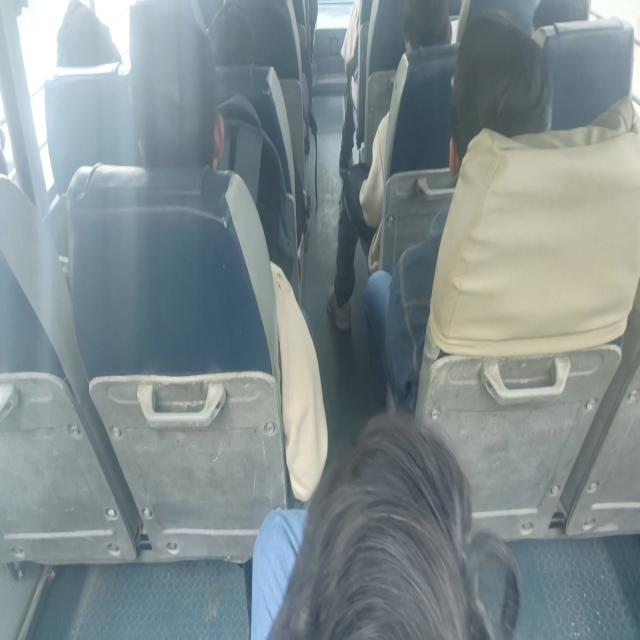person: (65, 4, 328, 502), (363, 9, 553, 413), (250, 408, 522, 638), (326, 0, 453, 332), (55, 0, 122, 68)
